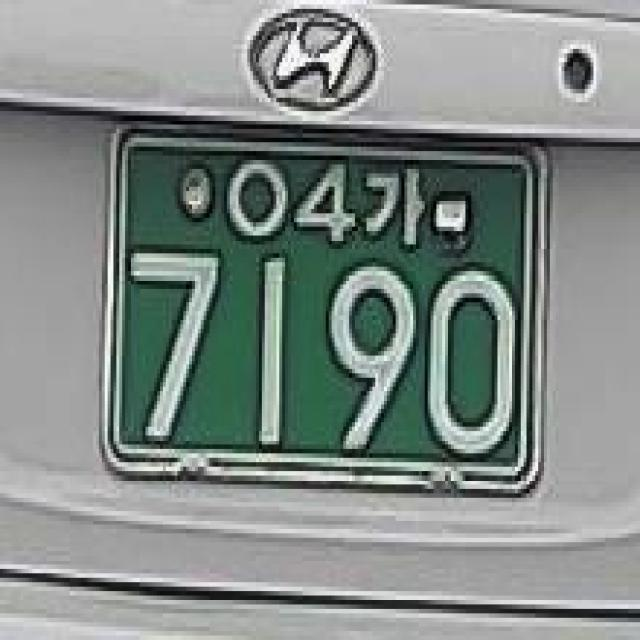illegal_plate: (84, 107, 564, 525)
